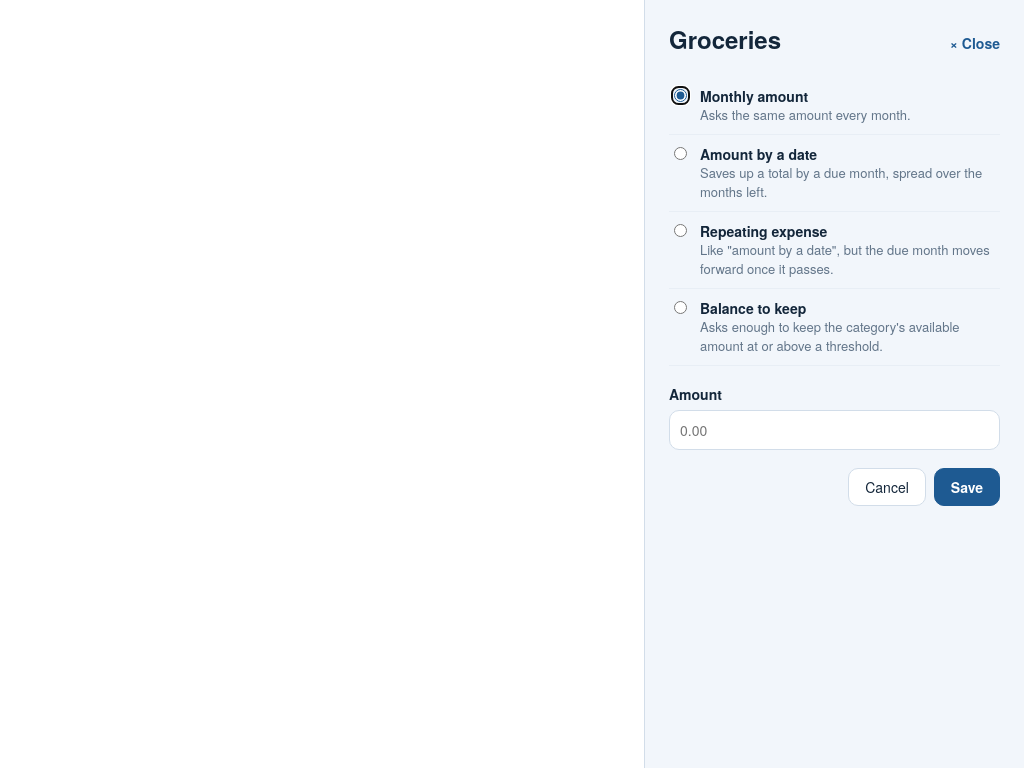
Test: TargetEditor (#55) › requires a positive amount
Click the button "Save" at (967, 487), box [934,468,1000,506]
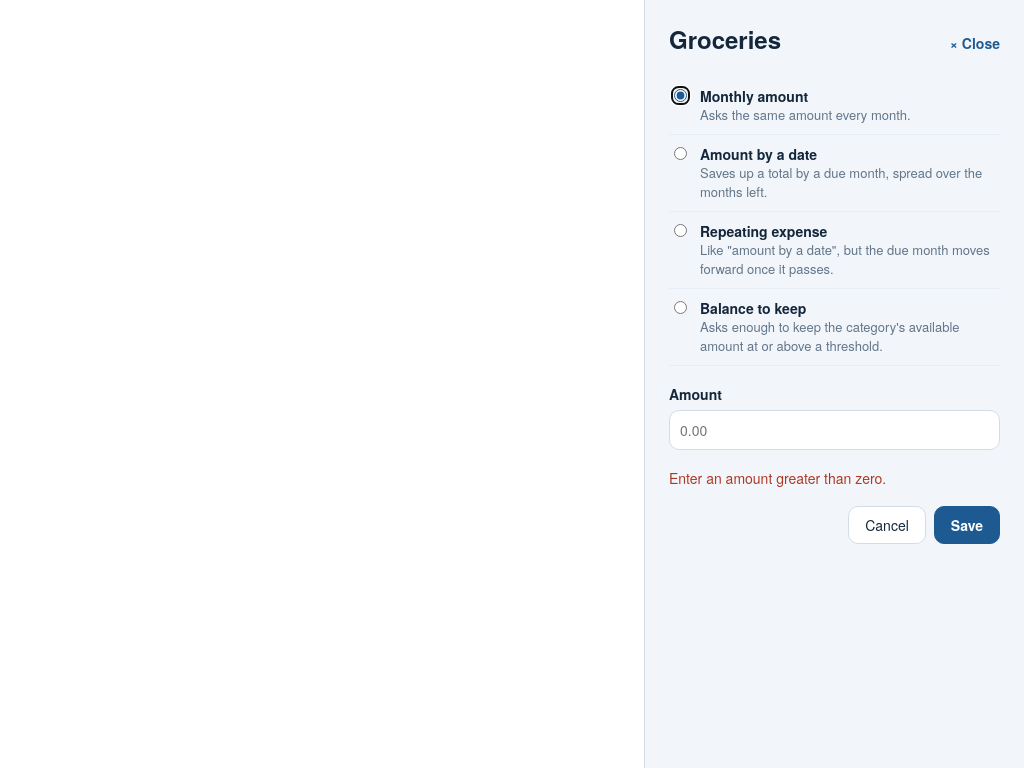
expect the message reads "Enter an amount greater than zero.": met, box [669,468,886,488]
